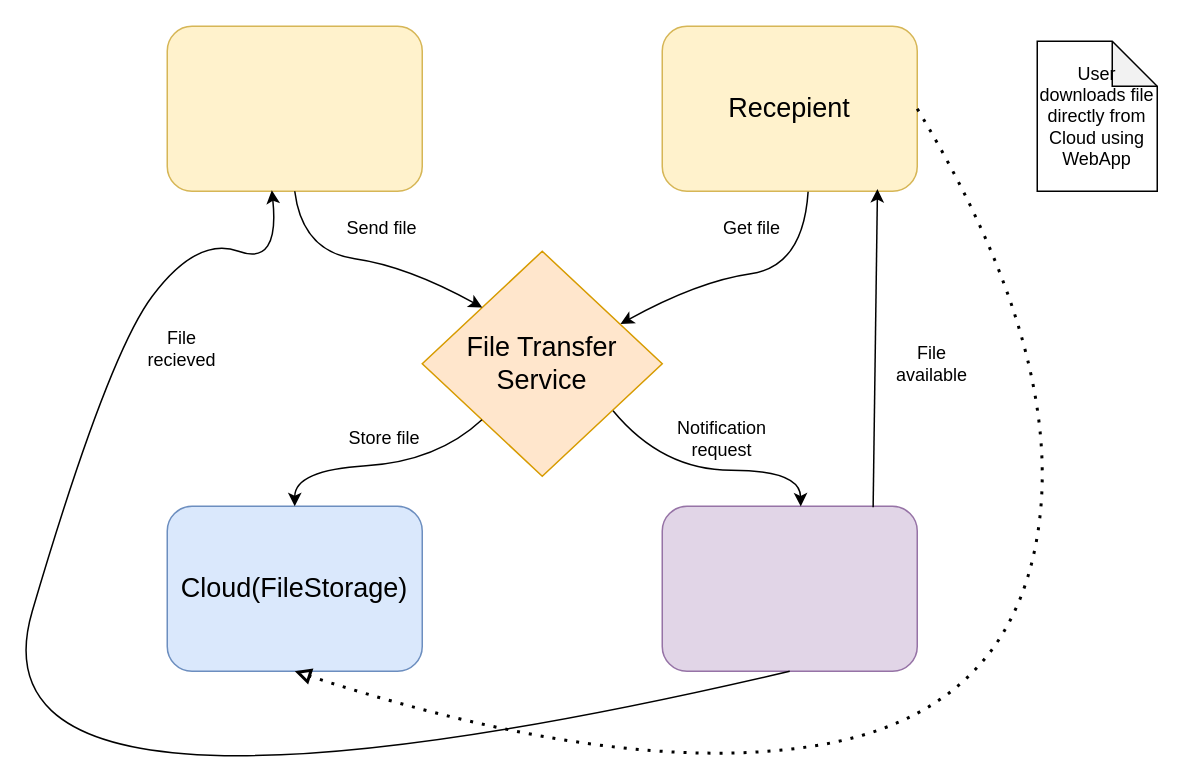
Some shapes in this 1185 by 783 pixel diagram are drawn without their labels. Each missing label, with the centre of its shape:
Email Service: (x=789, y=588)
Sender: (x=294, y=108)
